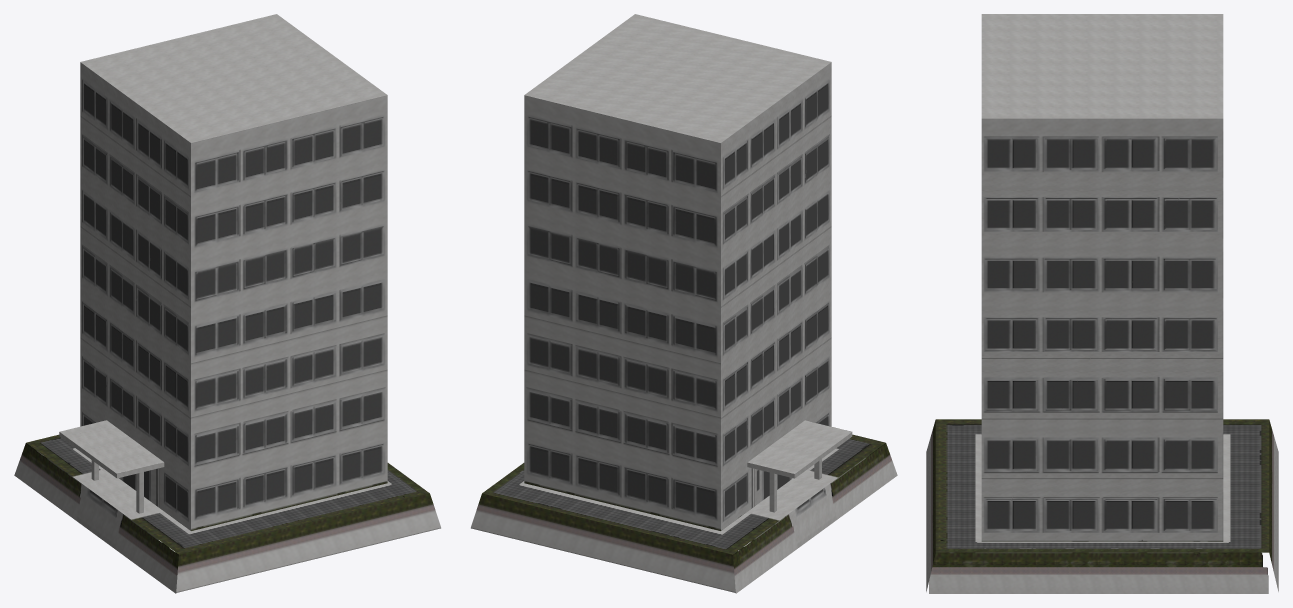
Rendered from corporation_000_low.fbx.
3 views of the same model, side by side, from view 1: azimuth 30°, elevation 25°; view 2: azimuth 150°, elevation 25°; view 3: azimuth 270°, elevation 25° (orthographic). The views are drawn at different scales.
Parts seen in each view (by area): view 1: pCube9; view 2: pCube9; view 3: pCube9.
Boxes of the visible parts, bbox=[...] form: pCube9: bbox=[14, 14, 440, 593]; pCube9: bbox=[471, 14, 897, 593]; pCube9: bbox=[926, 14, 1278, 593].
Bounding box in the file's own units: 10.16 × 15.05 × 10.45.
Materials: 1 (1 with a texture image).
